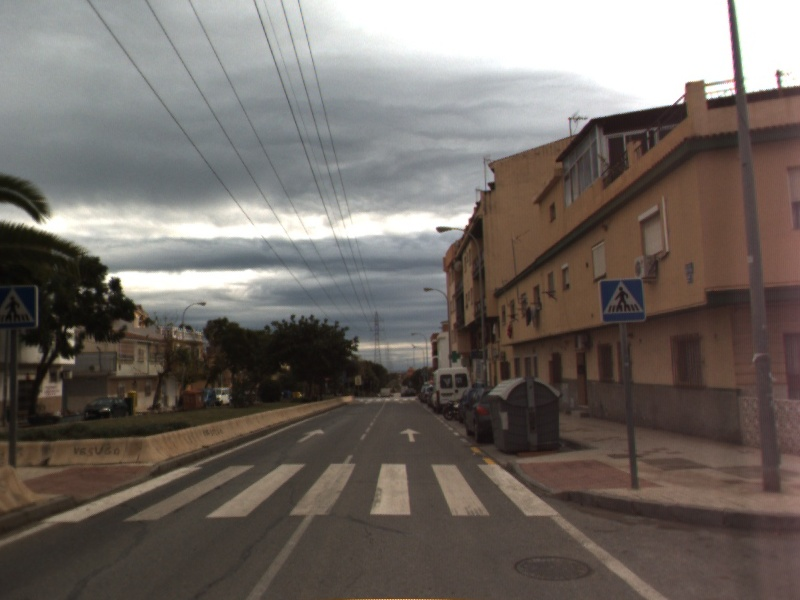STRAIGHT: (294, 426, 326, 445), (398, 426, 423, 445)
